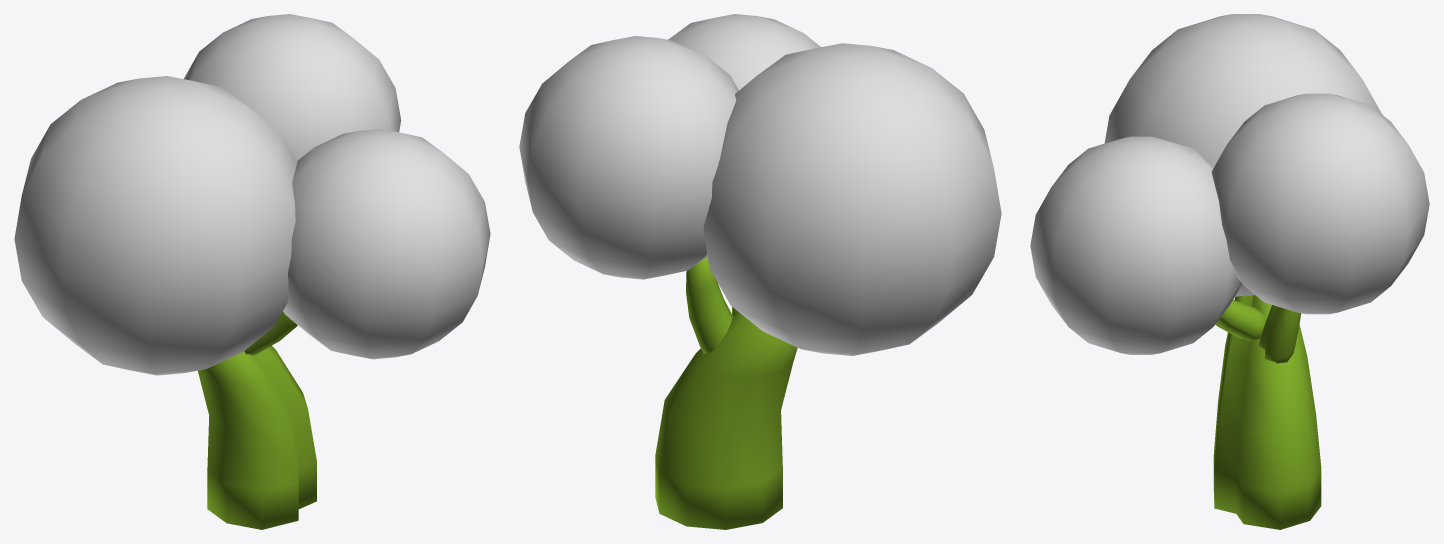
The model's file is Broccoli.fbx.
The picture shows the model from 3 angles, left to right: view 1: azimuth 30°, elevation 25°; view 2: azimuth 150°, elevation 25°; view 3: azimuth 270°, elevation 25°; orthographic projection. The views are drawn at different scales.
Visible parts, largest first — view 1: Sphere.019, Sphere.020, Sphere.021, Cylinder.016; view 2: Sphere.019, Sphere.021, Cylinder.016, Sphere.020; view 3: Sphere.021, Sphere.020, Sphere.019, Cylinder.016.
Part boxes in pixels (left/top/right/bottom): Sphere.019: left=14, top=76, right=297, bottom=375; Sphere.020: left=283, top=129, right=490, bottom=359; Sphere.021: left=184, top=14, right=401, bottom=160; Cylinder.016: left=198, top=311, right=316, bottom=529; Sphere.019: left=703, top=43, right=1001, bottom=355; Sphere.021: left=519, top=36, right=738, bottom=279; Cylinder.016: left=655, top=257, right=797, bottom=529; Sphere.020: left=668, top=14, right=820, bottom=90; Sphere.021: left=1211, top=93, right=1429, bottom=314; Sphere.020: left=1030, top=136, right=1242, bottom=354; Sphere.019: left=1104, top=14, right=1382, bottom=297; Cylinder.016: left=1213, top=295, right=1321, bottom=529.
Bounding box in the file's own units: 50.45 × 56.52 × 47.88.
